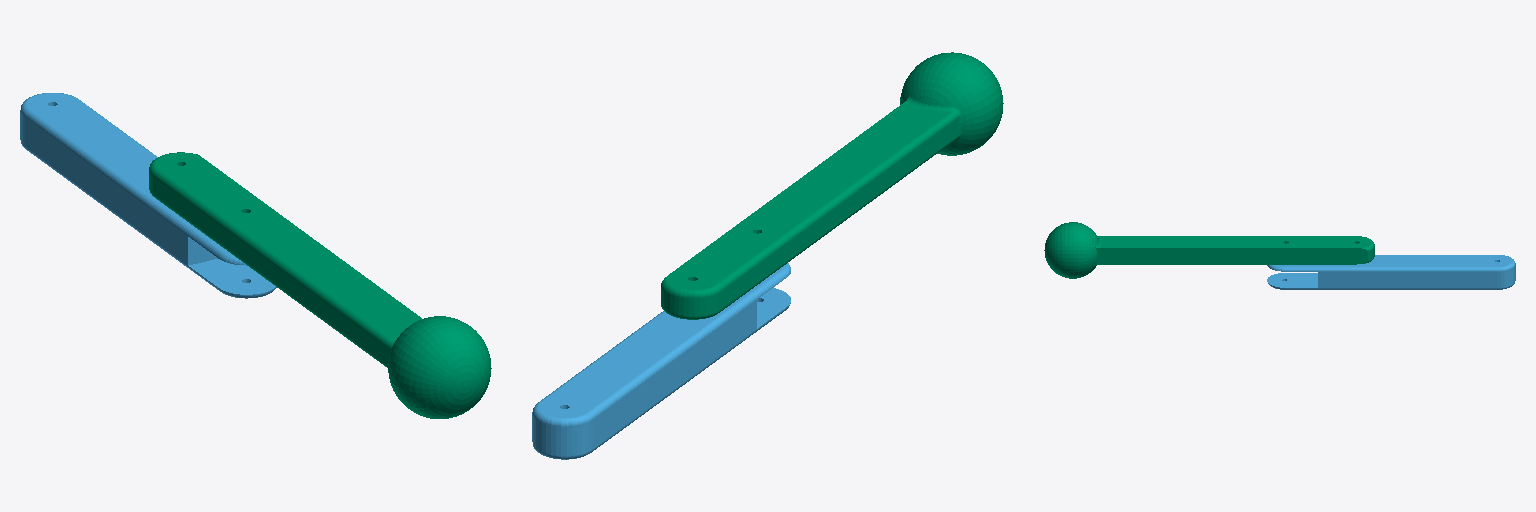
robot.urdf — one_leg:
<?xml version="1.0"?>

<robot name="one_leg">

    <mujoco>
        <compiler
            meshdir="../meshes"
            balanceinertia="true"
            discardvisual="false"/>
    </mujoco>


    <!-- ========================================================= -->
    <!--                       FIXED RECTANGLE                     -->
    <!-- ========================================================= -->

    <link name="rectangle">

        <visual>
            <origin
                xyz="0 0 0"
                rpy="0 0 0"/>

            <geometry>
                <mesh
                    filename="../meshes/rectangle.stl"
                    scale="0.001 0.001 0.001"/>
            </geometry>
        </visual>

        <collision>
            <origin
                xyz="0 0 0"
                rpy="0 0 0"/>

            <geometry>
                <mesh
                    filename="../meshes/rectangle.stl"
                    scale="0.001 0.001 0.001"/>
            </geometry>
        </collision>

    </link>


    <!-- ========================================================= -->
    <!--                           LINK 1                          -->
    <!-- ========================================================= -->

    <link name="link1">

        <visual>

            <!--
                TOP HOLE OF LINK 1 = J1

                Local STL coordinates:
                X = 9.68398 mm
                Y = 131.46633 mm
                Z = 14 mm

                Move that hole to the link1 body origin.
            -->

            <origin
                xyz="-0.00968398 -0.13146633 -0.014"
                rpy="0 0 0"/>

            <geometry>
                <mesh
                    filename="../meshes/link1.STL"
                    scale="0.001 0.001 0.001"/>
            </geometry>

        </visual>

        <collision>

            <origin
                xyz="-0.00968398 -0.13146633 -0.014"
                rpy="0 0 0"/>

            <geometry>
                <mesh
                    filename="../meshes/link1.STL"
                    scale="0.001 0.001 0.001"/>
            </geometry>

        </collision>

    </link>


    <!-- ========================================================= -->
    <!--                           LINK 2                          -->
    <!-- ========================================================= -->

    <link name="link2">

        <visual>

            <!--
                ATTACHMENT HOLE = 2nd hole of link2 (moved from 1st hole).

                Precisely measured from link2.STL (least-squares circle
                fit on the hole wall, not hand-clicked in CAD):

                Hole 1 (previous, now unused): X=16.0, Y=176.0, Z=11-21mm
                Hole 2 (this one):             X=16.0, Y=136.0, Z=11-21mm
                Foot sphere center:            X=16.0, Y=16.0,  Z=16.0mm

                Z origin kept at -0.011 (same bottom-face convention the
                original file used) since hole 2 spans the identical
                Z-range as hole 1 - only the Y attachment point changes.
            -->

            <origin
                xyz="-0.016 -0.136 -0.011"
                rpy="0 0 0"/>

            <geometry>
                <mesh
                    filename="../meshes/link2.STL"
                    scale="0.001 0.001 0.001"/>
            </geometry>

        </visual>

        <collision>

            <origin
                xyz="-0.016 -0.136 -0.011"
                rpy="0 0 0"/>

            <geometry>
                <mesh
                    filename="../meshes/link2.STL"
                    scale="0.001 0.001 0.001"/>
            </geometry>

        </collision>

    </link>


    <!-- ========================================================= -->
    <!--                         JOINT 1                           -->
    <!--              RECTANGLE -> LINK 1                         -->
    <!-- ========================================================= -->

    <joint name="rectangle_to_link1"
       type="revolute">

    <parent link="rectangle"/>
    <child link="link1"/>

    <origin
    xyz="0.03 0.03 0.08"
    rpy="0 0 0"/>

    <axis xyz="0 0 1"/>

    <limit
        lower="-1.57"
        upper="1.57"
        effort="100"
        velocity="10"/>

</joint>


    <!-- ========================================================= -->
    <!--                         JOINT 2                           -->
    <!--                   LINK 1 -> LINK 2                       -->
    <!-- ========================================================= -->

    <joint name="link1_to_link2"
           type="revolute">

        <parent link="link1"/>
        <child link="link2"/>

        <!--
            NOT changed: this joint's physical location on link1 is the
            same knee pivot regardless of which link2 hole it passes
            through. Only link2's mesh origin (above) moved.

            Precise link1 hole measurements (least-squares circle fit):
            J1 = (10.0, 130.0) mm, J2 = (10.0, 10.0) mm -> L1 = 120.0mm
            (previous hand-measured values below were ~0.3-1.5mm off,
            left as-is since this origin was tuned to match assembly)
        -->

        <origin
    xyz="0.00041797 -0.12084033 0.00162"
    rpy="0 0 0"/>

        <axis xyz="0 0 1"/>

        <limit
            lower="-1.57"
            upper="1.57"
            effort="100"
            velocity="10"/>

    </joint>

</robot>

--- Render facts (derived) ---
Views: 3 orthographic renders of the robot side by side, from view 1: azimuth 30°, elevation 25°; view 2: azimuth 150°, elevation 25°; view 3: azimuth 270°, elevation 25°.
Model one_leg with 3 links and 2 joints (2 revolute), rooted at rectangle, posed all joints at 0.
Visible links, largest first — view 1: link2, link1; view 2: link2, link1; view 3: link2, link1.
Boxes of the visible links, x1=… form: link2: x1=149, y1=152, x2=491, y2=418; link1: x1=20, y1=93, x2=276, y2=298; link2: x1=661, y1=52, x2=1003, y2=319; link1: x1=532, y1=263, x2=790, y2=459; link2: x1=1044, y1=222, x2=1374, y2=278; link1: x1=1267, y1=255, x2=1515, y2=289.
Bounding box of the posed robot: 0.032 × 0.2653 × 0.0366 m (x, y, z).
2 mesh visuals loaded from 3 distinct referenced files (2 binary STL); not drawn: 1 (reference not matched to a file when rendering).
